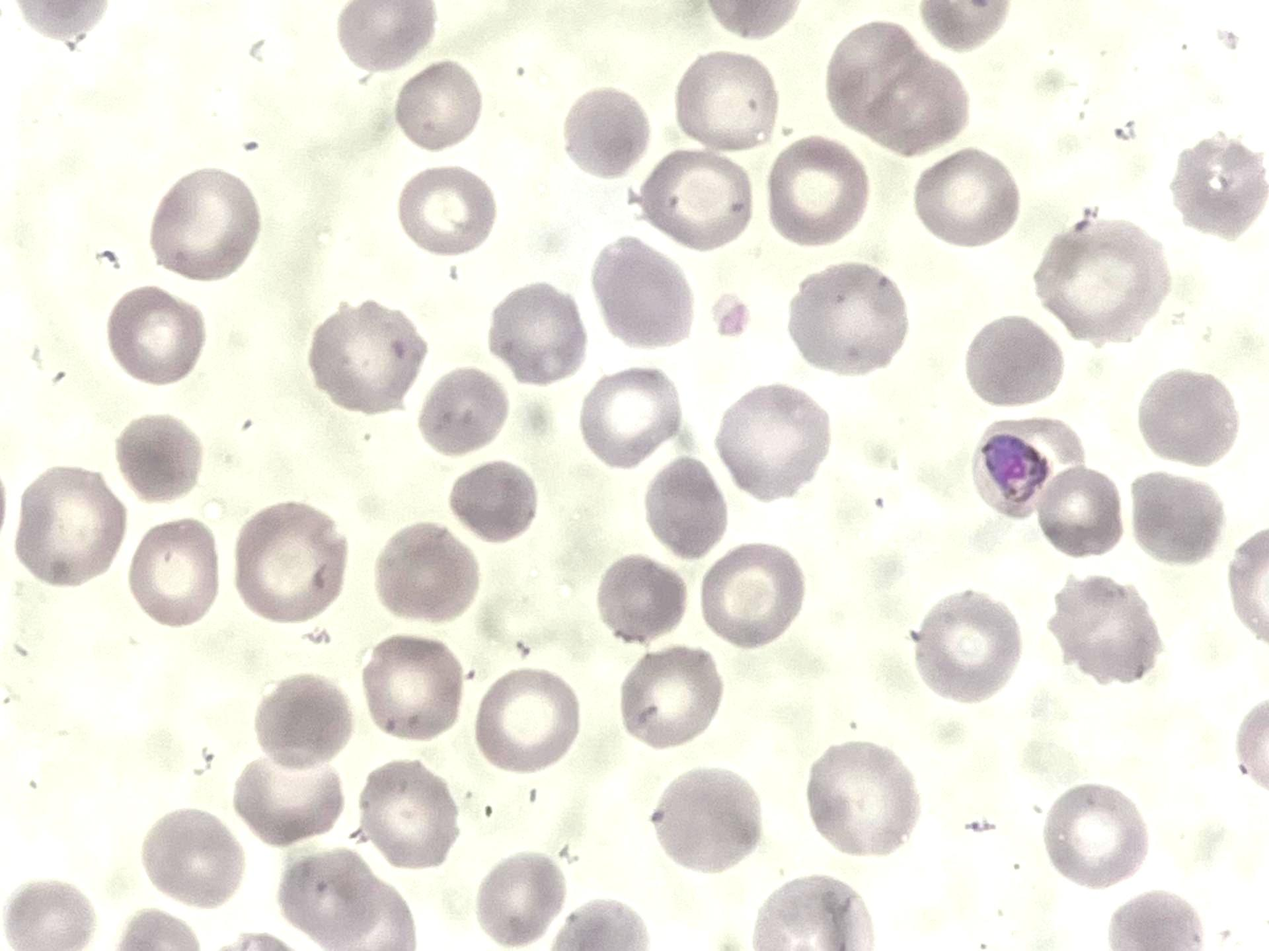Infected: (972, 418, 1087, 518)
Uninfected: (1037, 216, 1173, 342), (276, 848, 410, 950), (235, 502, 348, 619), (14, 468, 126, 586), (715, 384, 828, 498), (790, 262, 905, 374), (309, 301, 425, 412), (806, 743, 918, 857), (909, 591, 1021, 702), (1048, 574, 1161, 682), (151, 169, 260, 278), (650, 767, 760, 873), (590, 237, 693, 350), (638, 148, 751, 249), (357, 761, 461, 867), (767, 136, 869, 244), (362, 636, 468, 739), (1043, 785, 1149, 887), (374, 522, 481, 623), (141, 808, 247, 909), (826, 15, 919, 130), (700, 544, 803, 647), (474, 669, 578, 770), (1169, 133, 1269, 238), (233, 755, 342, 851), (1137, 369, 1240, 469), (913, 147, 1018, 245), (619, 647, 721, 747), (854, 65, 969, 152), (252, 672, 353, 770), (675, 52, 777, 149), (128, 519, 221, 625), (107, 287, 205, 385), (488, 285, 586, 382), (580, 369, 679, 465), (965, 315, 1063, 406), (753, 874, 871, 949), (1130, 471, 1225, 564), (596, 553, 688, 646), (399, 165, 495, 254), (475, 855, 567, 947), (643, 459, 726, 558), (418, 367, 510, 455), (1036, 465, 1124, 556), (114, 413, 203, 502), (563, 85, 650, 175), (395, 61, 483, 149), (449, 460, 536, 543), (338, 1, 433, 72), (3, 879, 95, 949), (1107, 890, 1205, 948), (921, 1, 1010, 50), (705, 1, 800, 40)
